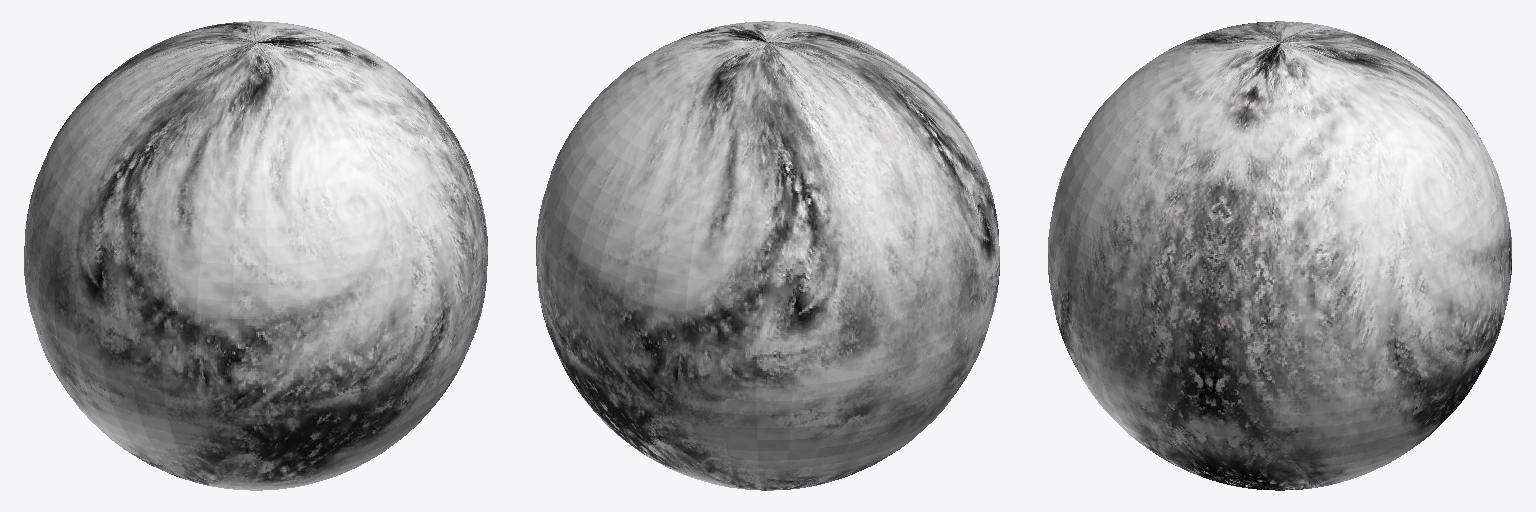
3 renders of one model, left to right at view 1: azimuth 30°, elevation 25°; view 2: azimuth 150°, elevation 25°; view 3: azimuth 270°, elevation 25°, orthographic.
Visible parts, largest first — view 1: xingqiu_06; view 2: xingqiu_06; view 3: xingqiu_06.
Part boxes in pixels (bbox=[...]): xingqiu_06: bbox=[24, 21, 487, 490]; xingqiu_06: bbox=[536, 21, 999, 490]; xingqiu_06: bbox=[1048, 21, 1511, 490].
Bounding box in the file's own units: 11.82 × 11.97 × 11.82.
Materials: 1 (1 with a texture image).